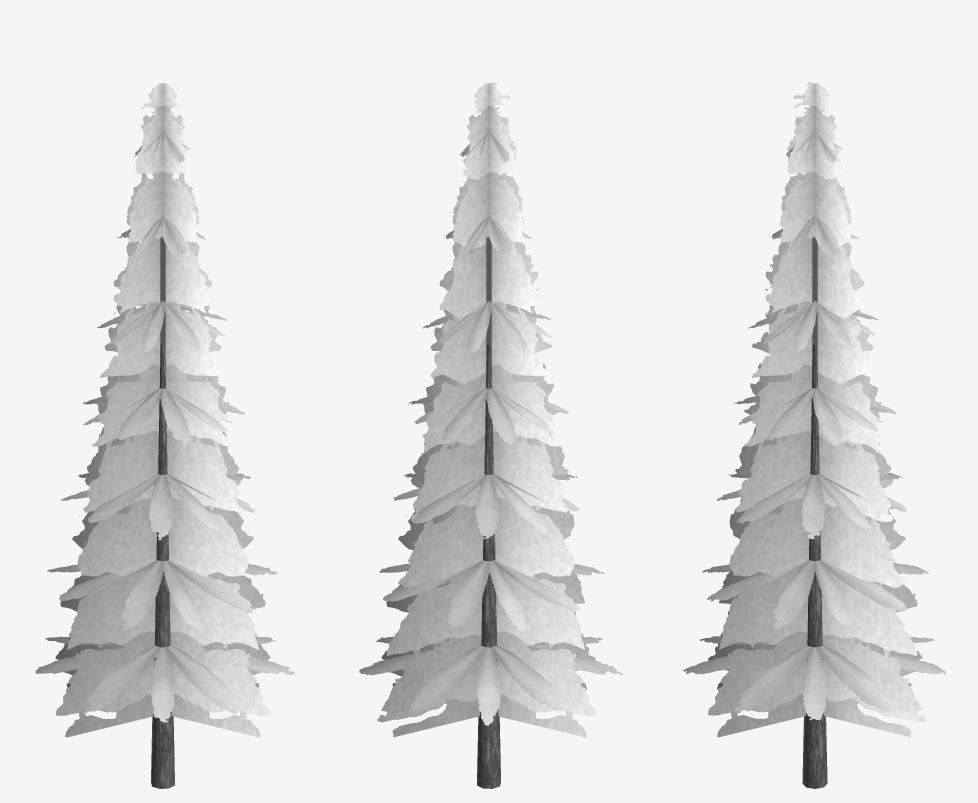
The model's file is tree_spruce.glb.
The picture shows the model from 3 angles, left to right: view 1: azimuth 30°, elevation 25°; view 2: azimuth 150°, elevation 25°; view 3: azimuth 270°, elevation 25°; orthographic projection.
Visible parts, largest first — view 1: tree_spruce; view 2: tree_spruce; view 3: tree_spruce.
Part boxes in pixels (x1,y1,x2,y2): tree_spruce: (35, 83, 294, 788); tree_spruce: (359, 82, 622, 788); tree_spruce: (683, 82, 945, 788).
Bounding box in the file's own units: 7.6 × 20 × 7.6.
2 materials, 2 textured.
